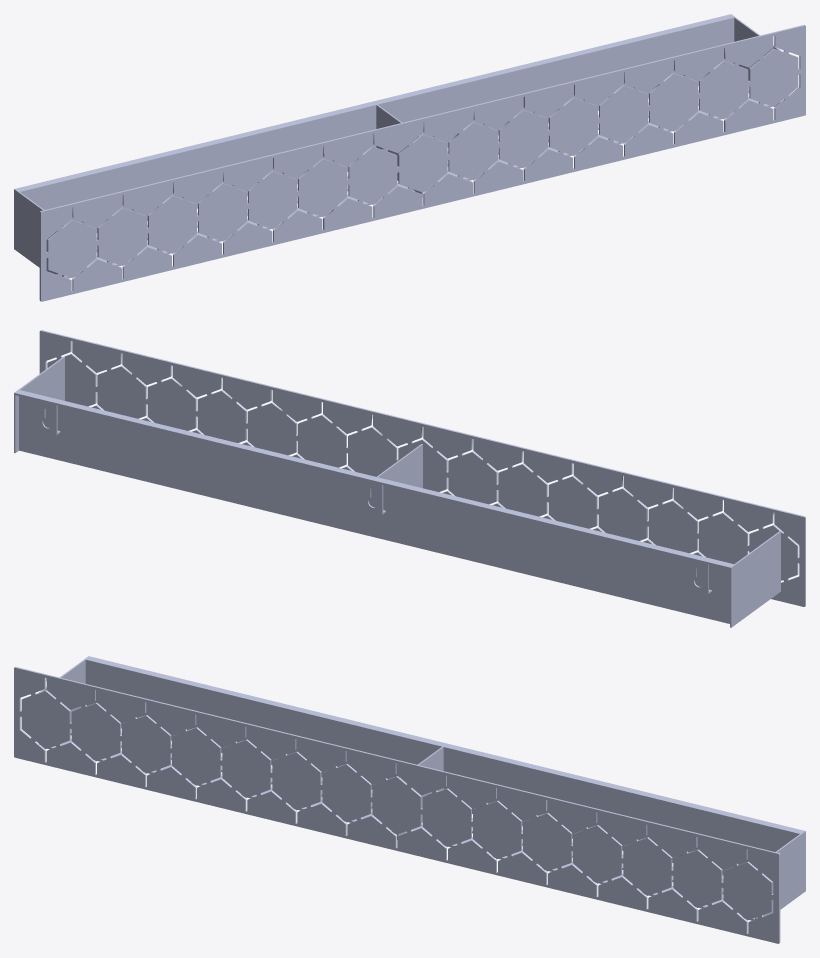
File: bee-mono.1a76e79f63.glb
The picture shows the model from 3 angles, top to bottom: view 1: azimuth 30°, elevation 25°; view 2: azimuth 150°, elevation 25°; view 3: azimuth 330°, elevation 25°; orthographic projection.
Visible parts, largest first — view 1: NAUO1; view 2: NAUO1; view 3: NAUO1.
Boxes of the visible parts, <box> form: NAUO1: <box>14,14,805,301</box>; NAUO1: <box>14,330,805,627</box>; NAUO1: <box>14,656,805,943</box>.
Size of the model in its own units: 0.8 by 0.0899 by 0.092.
